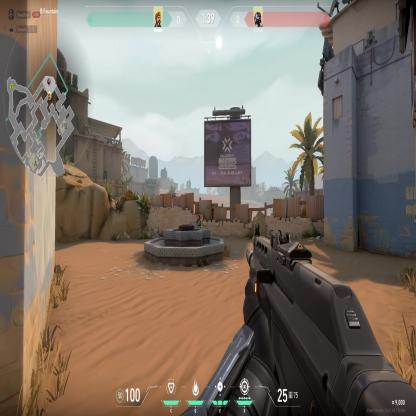enemy: (196, 212, 202, 227)
